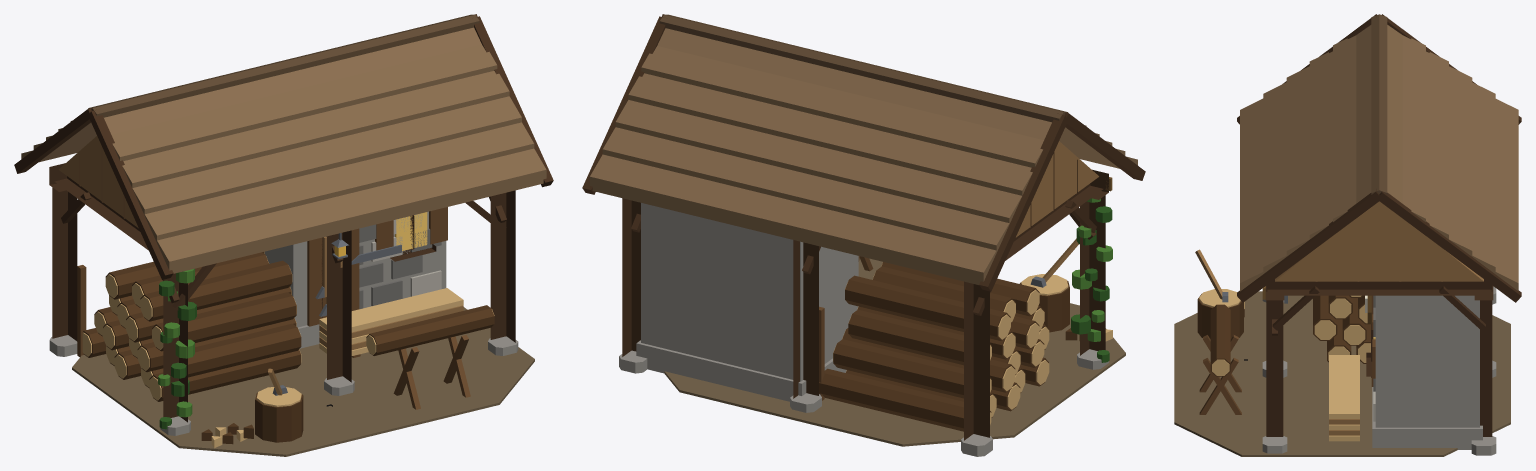
File: lumber_camp_2.obj
3 renders of one model, left to right at view 1: azimuth 30°, elevation 25°; view 2: azimuth 150°, elevation 25°; view 3: azimuth 270°, elevation 25°, orthographic. The views are drawn at different scales.
Visible parts, largest first — view 1: Roof, Ground, Log, Post, Roof.Ridge, Gable.Barge, Planks, Room.Stone, Room, Log.End, Gable, Ivy (+11 smaller); view 2: Roof, Room, Log, Post, Ground, Roof.Ridge, Gable.Barge, Room.Plinth, Log.End, Gable, Ivy, Post.Foot (+4 smaller); view 3: Roof, Ground, Room, Gable, Gable.Barge, Post, Beam.Side, Roof.Ridge, Log, Planks, Room.Plinth, Log.End (+5 smaller).
Boxes of the visible parts, x1,y1,x2,y2 form: Roof: (21,27,546,273); Ground: (72,307,534,456); Log: (83,252,494,401); Post: (52,163,515,422); Roof.Ridge: (88,14,479,117); Gable.Barge: (14,14,553,279); Planks: (319,288,463,355); Room.Stone: (359,214,441,309); Room: (264,211,446,327); Log.End: (82,252,494,400); Gable: (58,136,138,228); Ivy: (158,268,196,429); Roof: (590,28,1137,284); Room: (641,203,858,381); Log: (819,262,1049,431); Post: (622,170,1105,440); Ground: (664,258,1125,446); Roof.Ridge: (659,14,1068,122); Gable.Barge: (582,14,1145,291); Room.Plinth: (636,340,846,401); Log.End: (833,264,1049,424); Gable: (1016,141,1098,237); Ivy: (1071,198,1112,362); Post.Foot: (619,349,1108,456); Roof: (1240,25,1518,291); Ground: (1174,291,1510,456); Room: (1375,295,1479,427); Gable: (1275,201,1483,281); Gable.Barge: (1237,14,1521,302); Post: (1266,285,1492,436); Beam.Side: (1267,279,1491,295); Roof.Ridge: (1371,14,1387,194); Log: (1210,295,1370,376); Planks: (1329,355,1359,441); Room.Plinth: (1372,387,1482,449); Log.End: (1212,295,1370,375).
Size of the model in its own units: 5.46 by 3.91 by 4.49.
